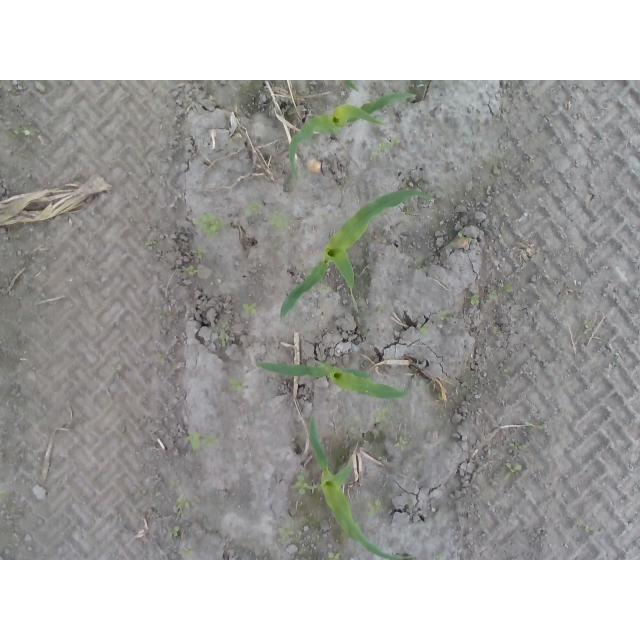Maize: (280, 189, 433, 319), (308, 414, 413, 560), (287, 91, 417, 178), (258, 363, 411, 401)
Weeds: (194, 213, 224, 235), (370, 139, 402, 159), (293, 472, 319, 496), (187, 432, 218, 449), (219, 322, 233, 347), (367, 499, 387, 516), (507, 441, 529, 456), (175, 496, 190, 516), (278, 525, 295, 542), (372, 408, 388, 425), (273, 214, 288, 231), (505, 462, 524, 475), (194, 247, 209, 262), (395, 436, 409, 452), (243, 302, 260, 315), (244, 204, 260, 217), (166, 526, 181, 539), (15, 126, 33, 135), (186, 265, 200, 276), (145, 240, 160, 249), (181, 546, 192, 558), (469, 294, 481, 304), (326, 553, 341, 560), (231, 380, 241, 390), (440, 312, 450, 321), (419, 326, 427, 335)
